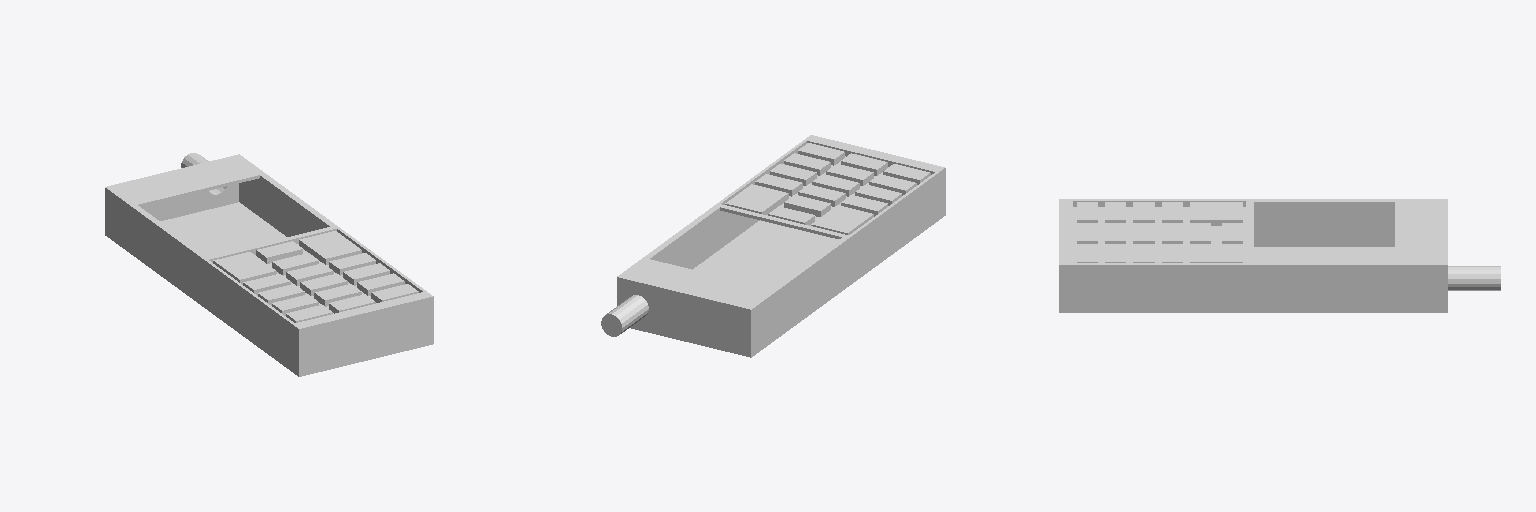
Rendered from phone.obj.
3 views of the same model, side by side, from view 1: azimuth 30°, elevation 25°; view 2: azimuth 150°, elevation 25°; view 3: azimuth 270°, elevation 25° (orthographic).
Parts seen in each view (by area): view 1: object_1; view 2: object_1; view 3: object_1.
Boxes of the visible parts, x1=… form: object_1: x1=105, y1=153, x2=433, y2=376; object_1: x1=601, y1=135, x2=945, y2=357; object_1: x1=1059, y1=199, x2=1500, y2=312.
Bounding box in the file's own units: 44 × 15 × 125.